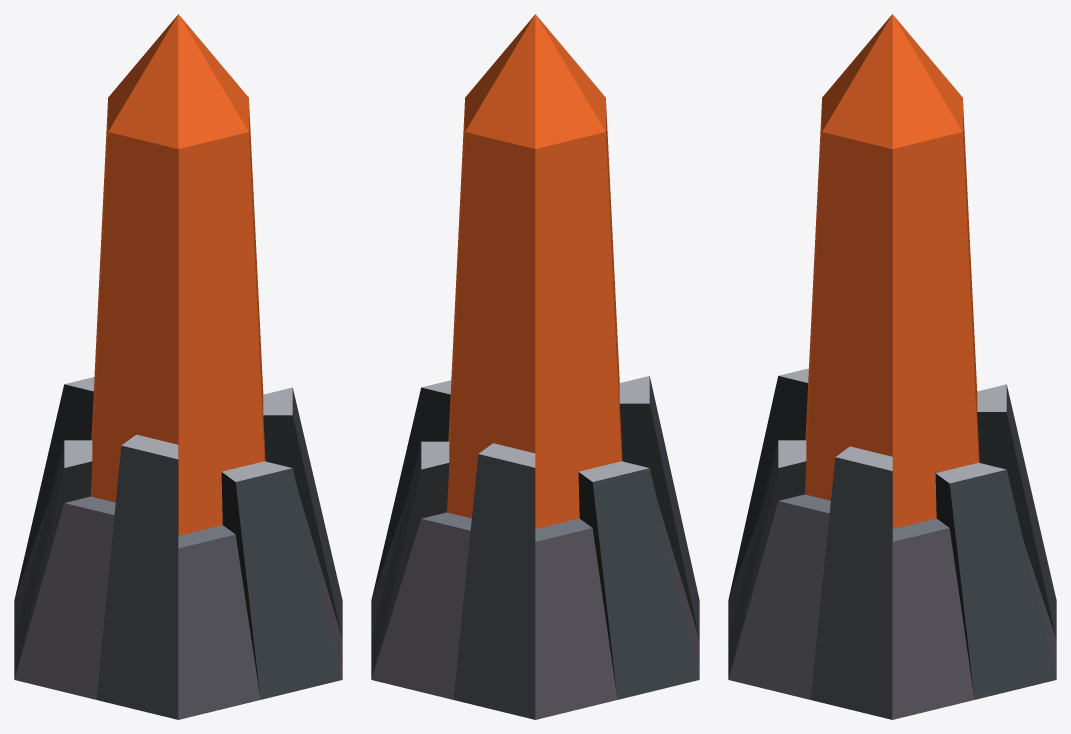
Rendered from TB_Str_Crystal_B.FBX.
3 renders of one model, left to right at view 1: azimuth 30°, elevation 25°; view 2: azimuth 150°, elevation 25°; view 3: azimuth 270°, elevation 25°, orthographic.
Parts seen in each view (by area): view 1: TB_Str_Crystal_B; view 2: TB_Str_Crystal_B; view 3: TB_Str_Crystal_B.
Part boxes in pixels (x1,y1,x2,y2): TB_Str_Crystal_B: (14, 14, 342, 719); TB_Str_Crystal_B: (371, 14, 699, 719); TB_Str_Crystal_B: (728, 14, 1056, 719).
Bounding box in the file's own units: 2.24 × 4.09 × 1.94.
